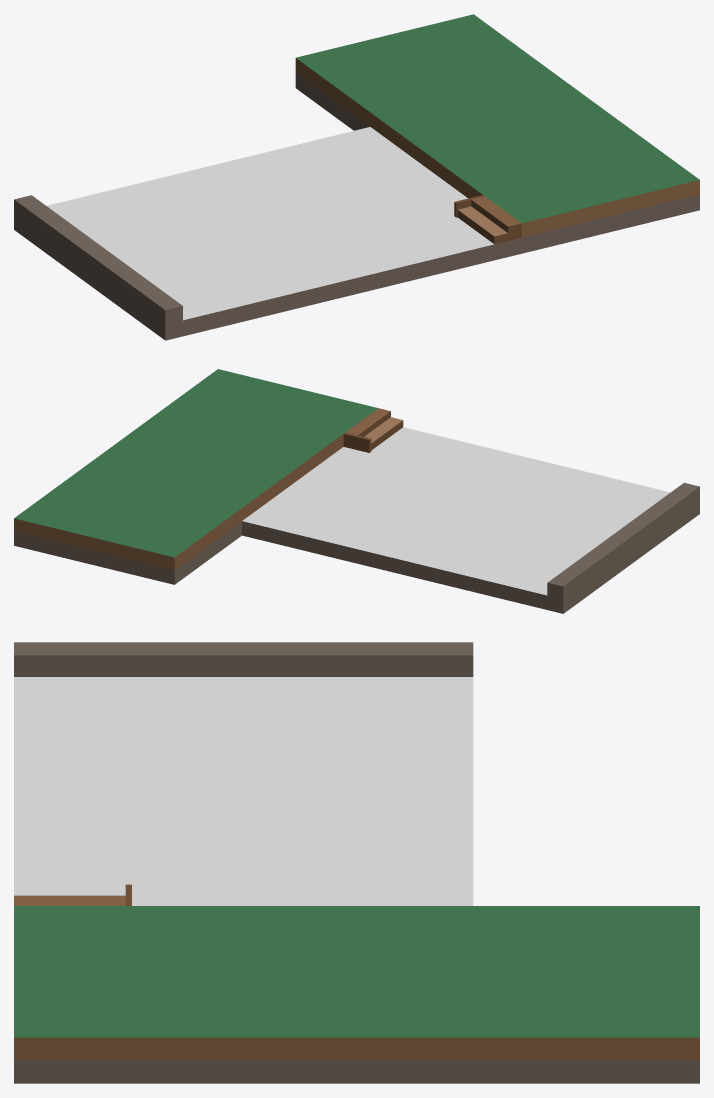
Rendered from CustomerStartingFloor.fbx.
The picture shows the model from 3 angles, top to bottom: view 1: azimuth 30°, elevation 25°; view 2: azimuth 150°, elevation 25°; view 3: azimuth 270°, elevation 25°; orthographic projection. The views are drawn at different scales.
Visible parts, largest first — view 1: Cube; view 2: Cube; view 3: Cube.
Part boxes in pixels (box(x1,y1,x2,y2)): Cube: box(14, 14, 699, 340); Cube: box(14, 369, 699, 613); Cube: box(14, 642, 699, 1083).
Size of the model in its own units: 550 by 29.9 by 404.
